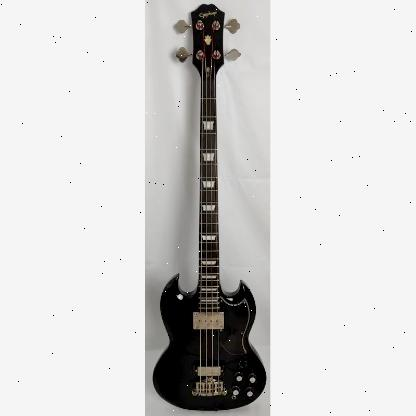bass: (153, 2, 267, 412)
